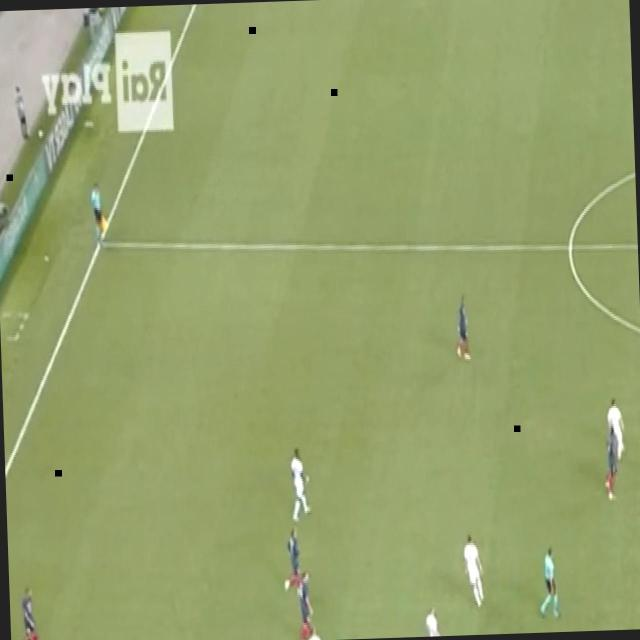ball: (38, 128, 42, 138)
player-white: (536, 543, 562, 625), (462, 531, 486, 609), (288, 446, 312, 524), (281, 525, 303, 596), (453, 291, 473, 364), (296, 568, 316, 640), (604, 396, 626, 461), (602, 426, 620, 504), (20, 584, 44, 640), (89, 182, 105, 252), (425, 602, 444, 636), (304, 621, 329, 640)
